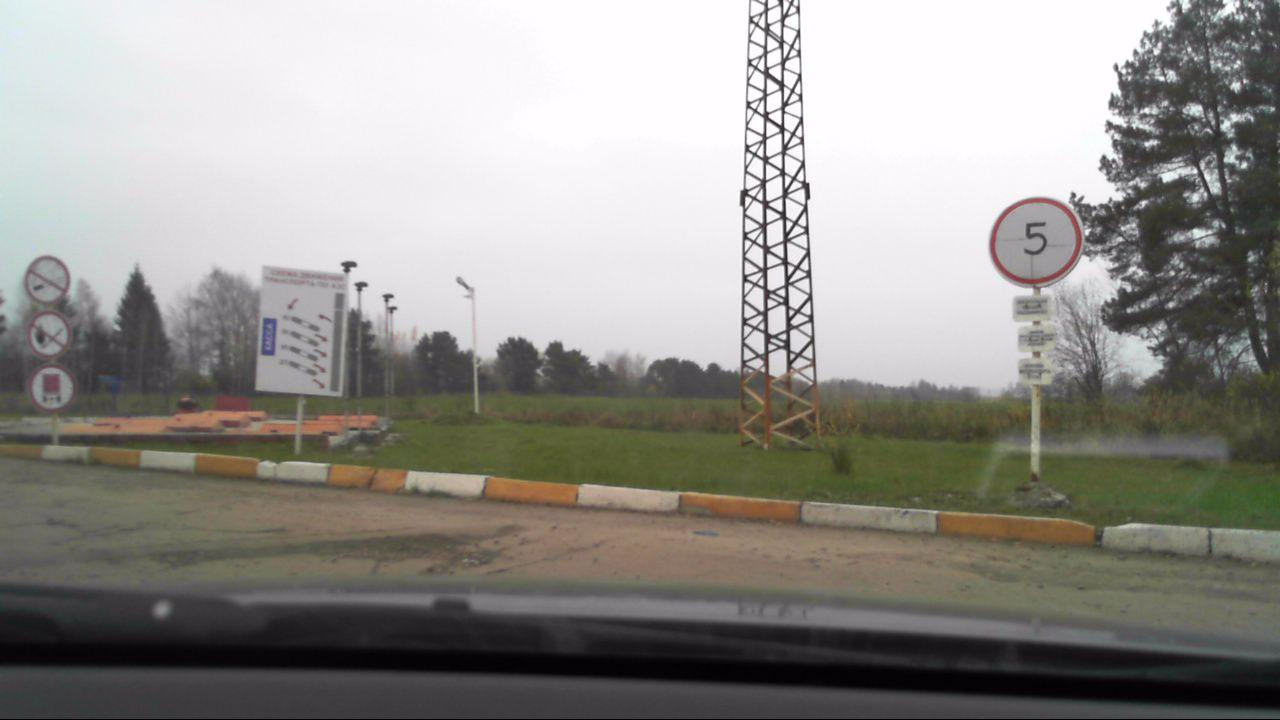3_24: (989, 190, 1079, 284)
3_32: (29, 366, 72, 416)
